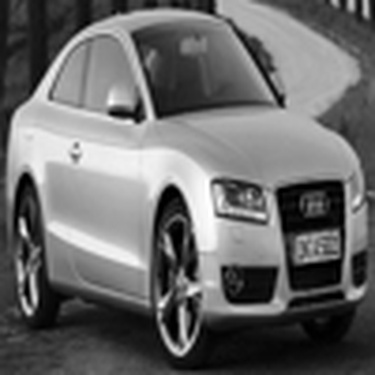car: (5, 5, 369, 371)
